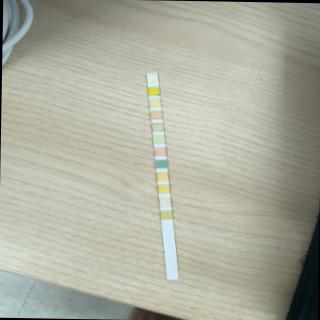mark: (160, 210, 172, 220), (150, 110, 162, 119), (153, 134, 164, 143), (154, 147, 165, 156), (156, 159, 167, 168), (146, 74, 158, 82), (152, 123, 164, 131), (156, 172, 168, 180), (149, 98, 160, 106), (159, 198, 170, 206), (148, 87, 158, 95), (158, 185, 168, 192)
